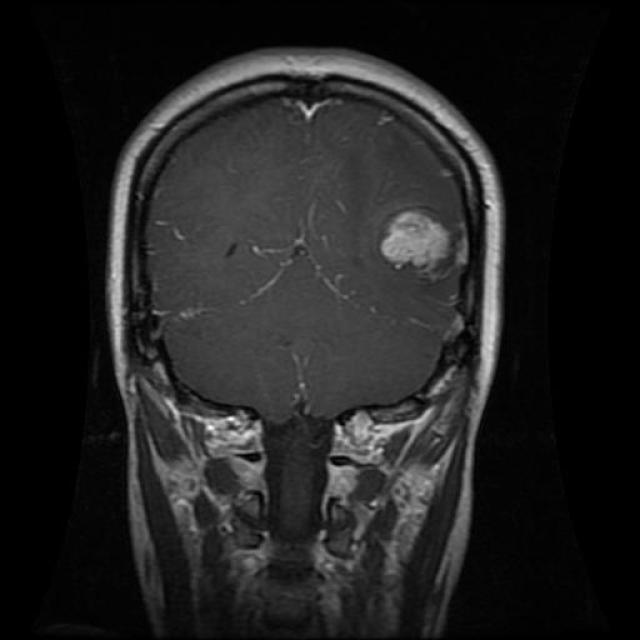glioma: (378, 198, 476, 282)
